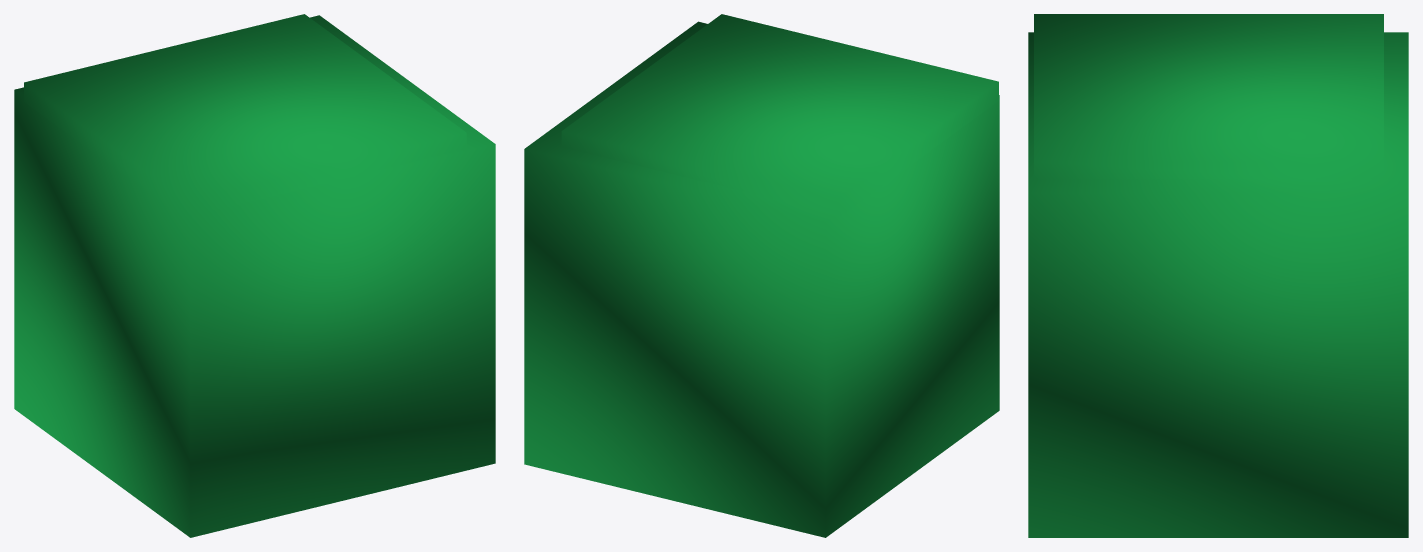
File: ps2_jrpg_volcanic_deadwood_brush.obj
3 views of the same model, side by side, from view 1: azimuth 30°, elevation 25°; view 2: azimuth 150°, elevation 25°; view 3: azimuth 270°, elevation 25° (orthographic). The views are drawn at different scales.
Size of the model in its own units: 1.01 by 1.05 by 1.
